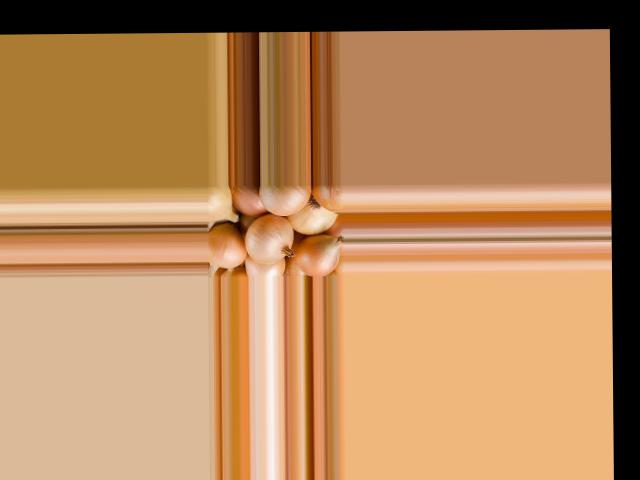onion: (243, 253, 288, 276)
